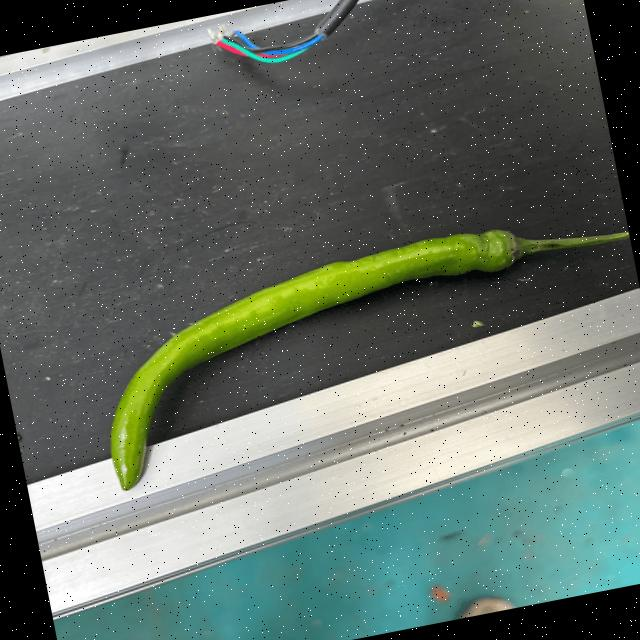chili: (107, 227, 529, 492)
